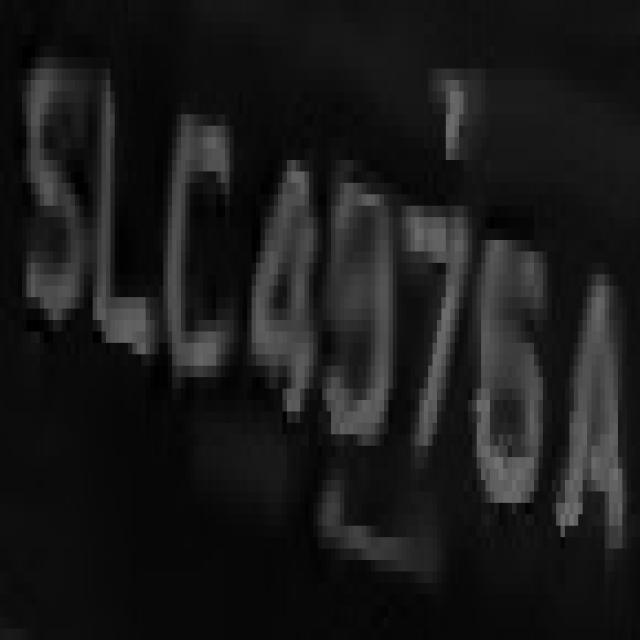4: (252, 80, 326, 457)
6: (472, 148, 543, 548)
7: (402, 148, 476, 572)
9: (322, 126, 406, 480)
A: (552, 183, 631, 617)
C: (154, 91, 243, 412)
L: (88, 69, 164, 388)
S: (18, 23, 88, 331)
